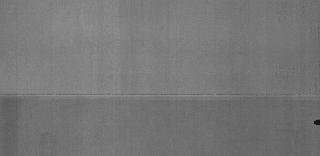punching hole: (312, 118, 320, 126)
welding line: (1, 91, 319, 104)
